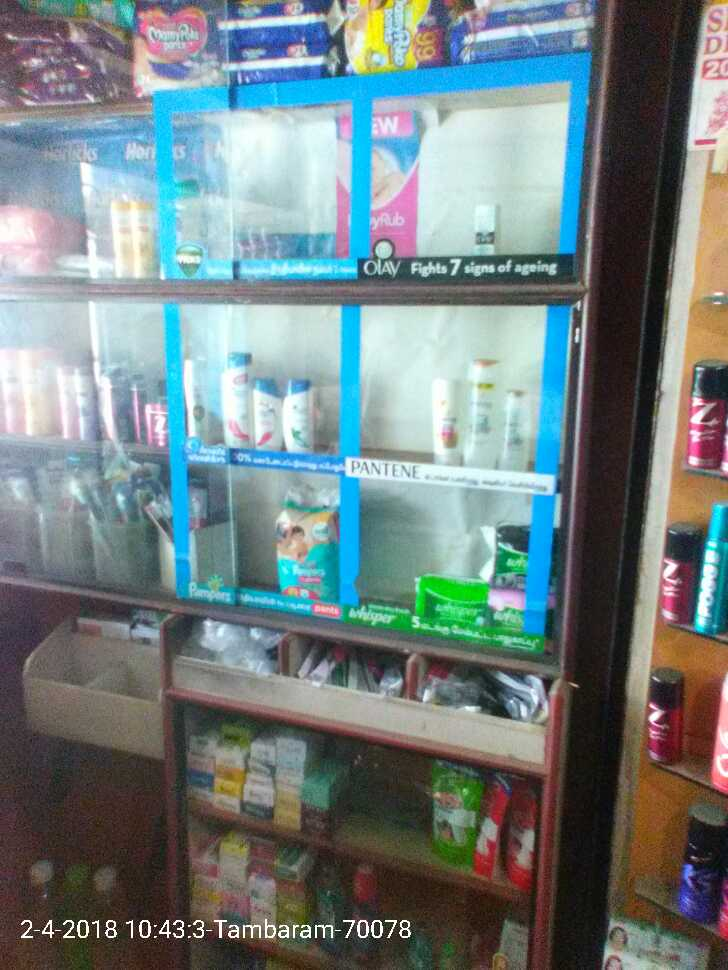vicks: (227, 225, 348, 259)
